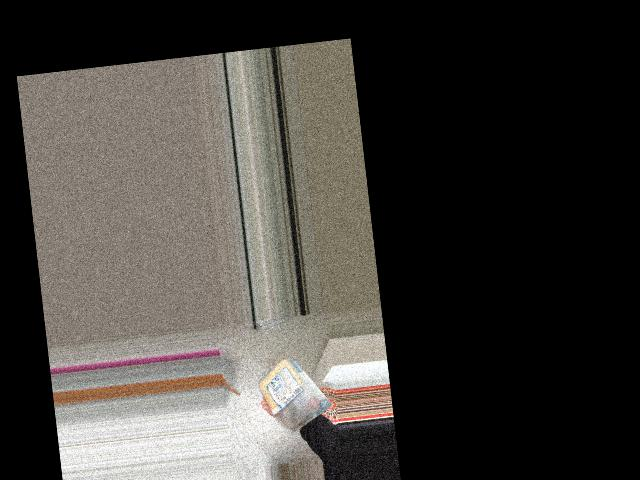cheese: (257, 356, 323, 428)
